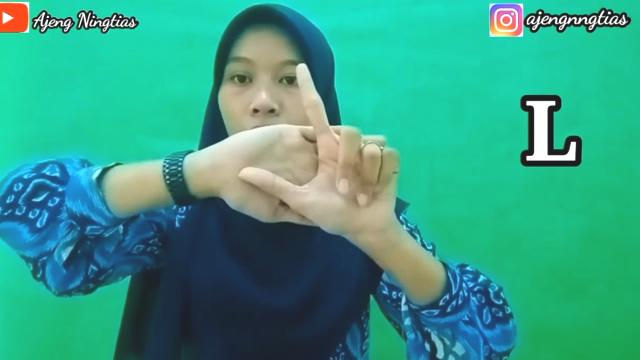L: (238, 59, 408, 238)
